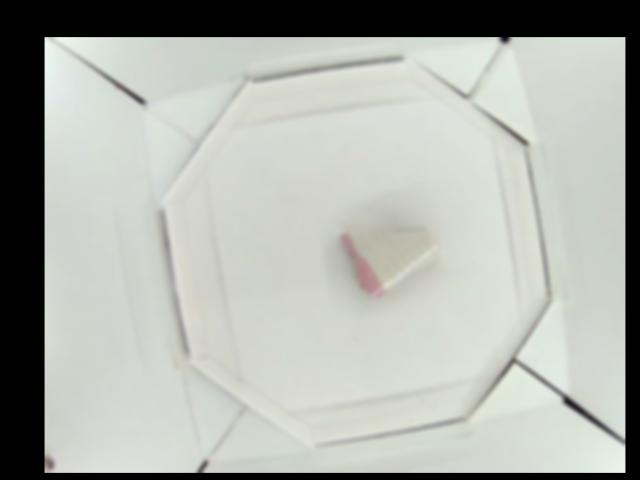China: (337, 219, 443, 296)
